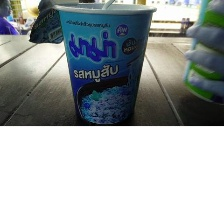paper_cup: (49, 0, 159, 126)
